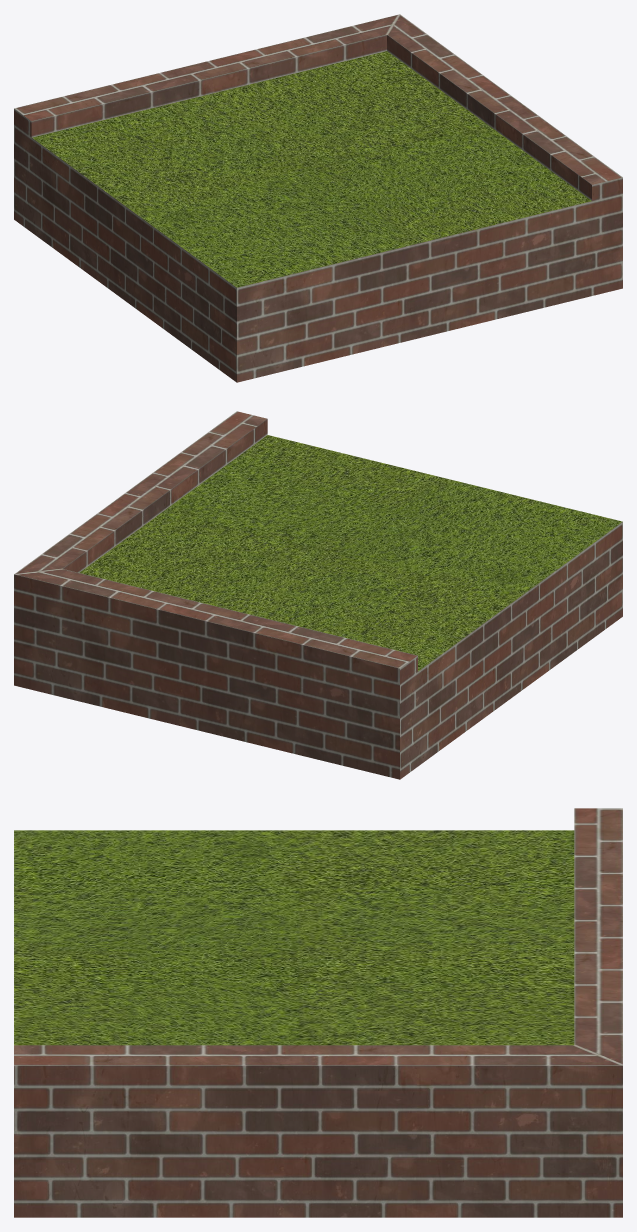
The model's file is grass_corner_full.dae.
3 views of the same model, one above another, from view 1: azimuth 30°, elevation 25°; view 2: azimuth 150°, elevation 25°; view 3: azimuth 270°, elevation 25° (orthographic). The views are drawn at different scales.
Parts seen in each view (by area): view 1: group_0 (×3); view 2: group_0 (×3); view 3: group_0 (×3).
Boxes of the visible parts, x1,y1,x2,y2 form: group_0 (×3): [14, 14, 622, 382]; group_0 (×3): [14, 411, 622, 779]; group_0 (×3): [14, 808, 622, 1217].
Bounding box in the file's own units: 39.37 × 39.37 × 10.83.
Materials: 3 (3 with a texture image).
